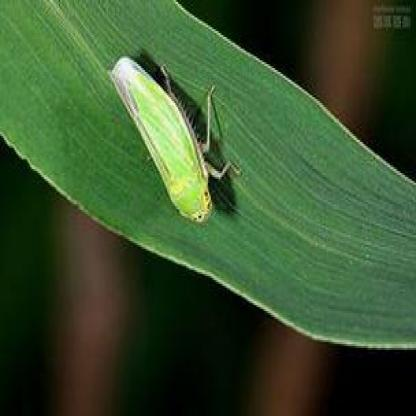green-leafhopper: (107, 51, 231, 220)
